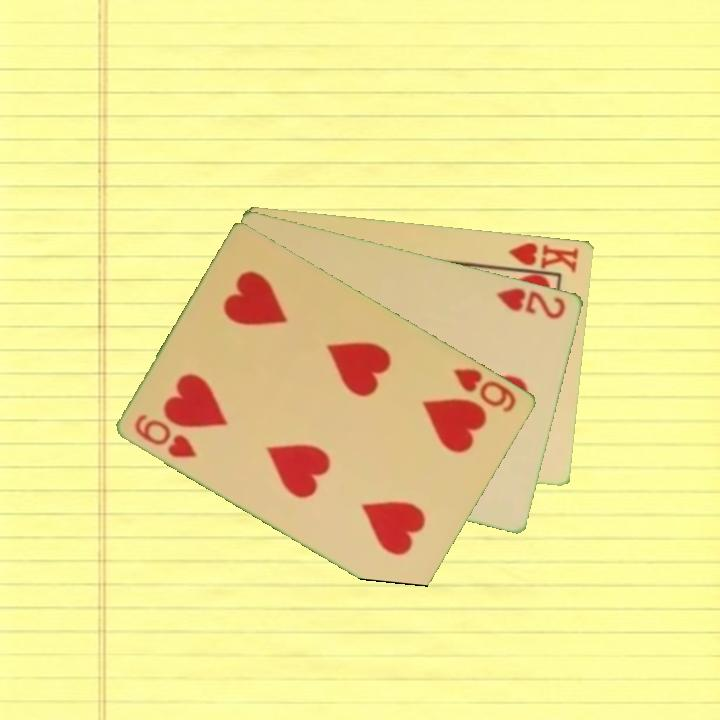2h: (493, 284, 569, 322)
6h: (449, 364, 520, 415), (131, 410, 200, 461)
Kh: (498, 238, 582, 275)
